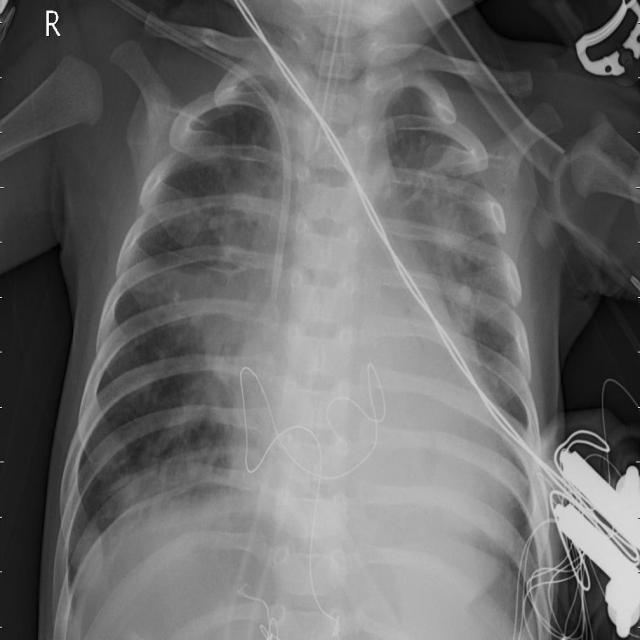bacterial_pneumonia: (8, 11, 640, 640)
